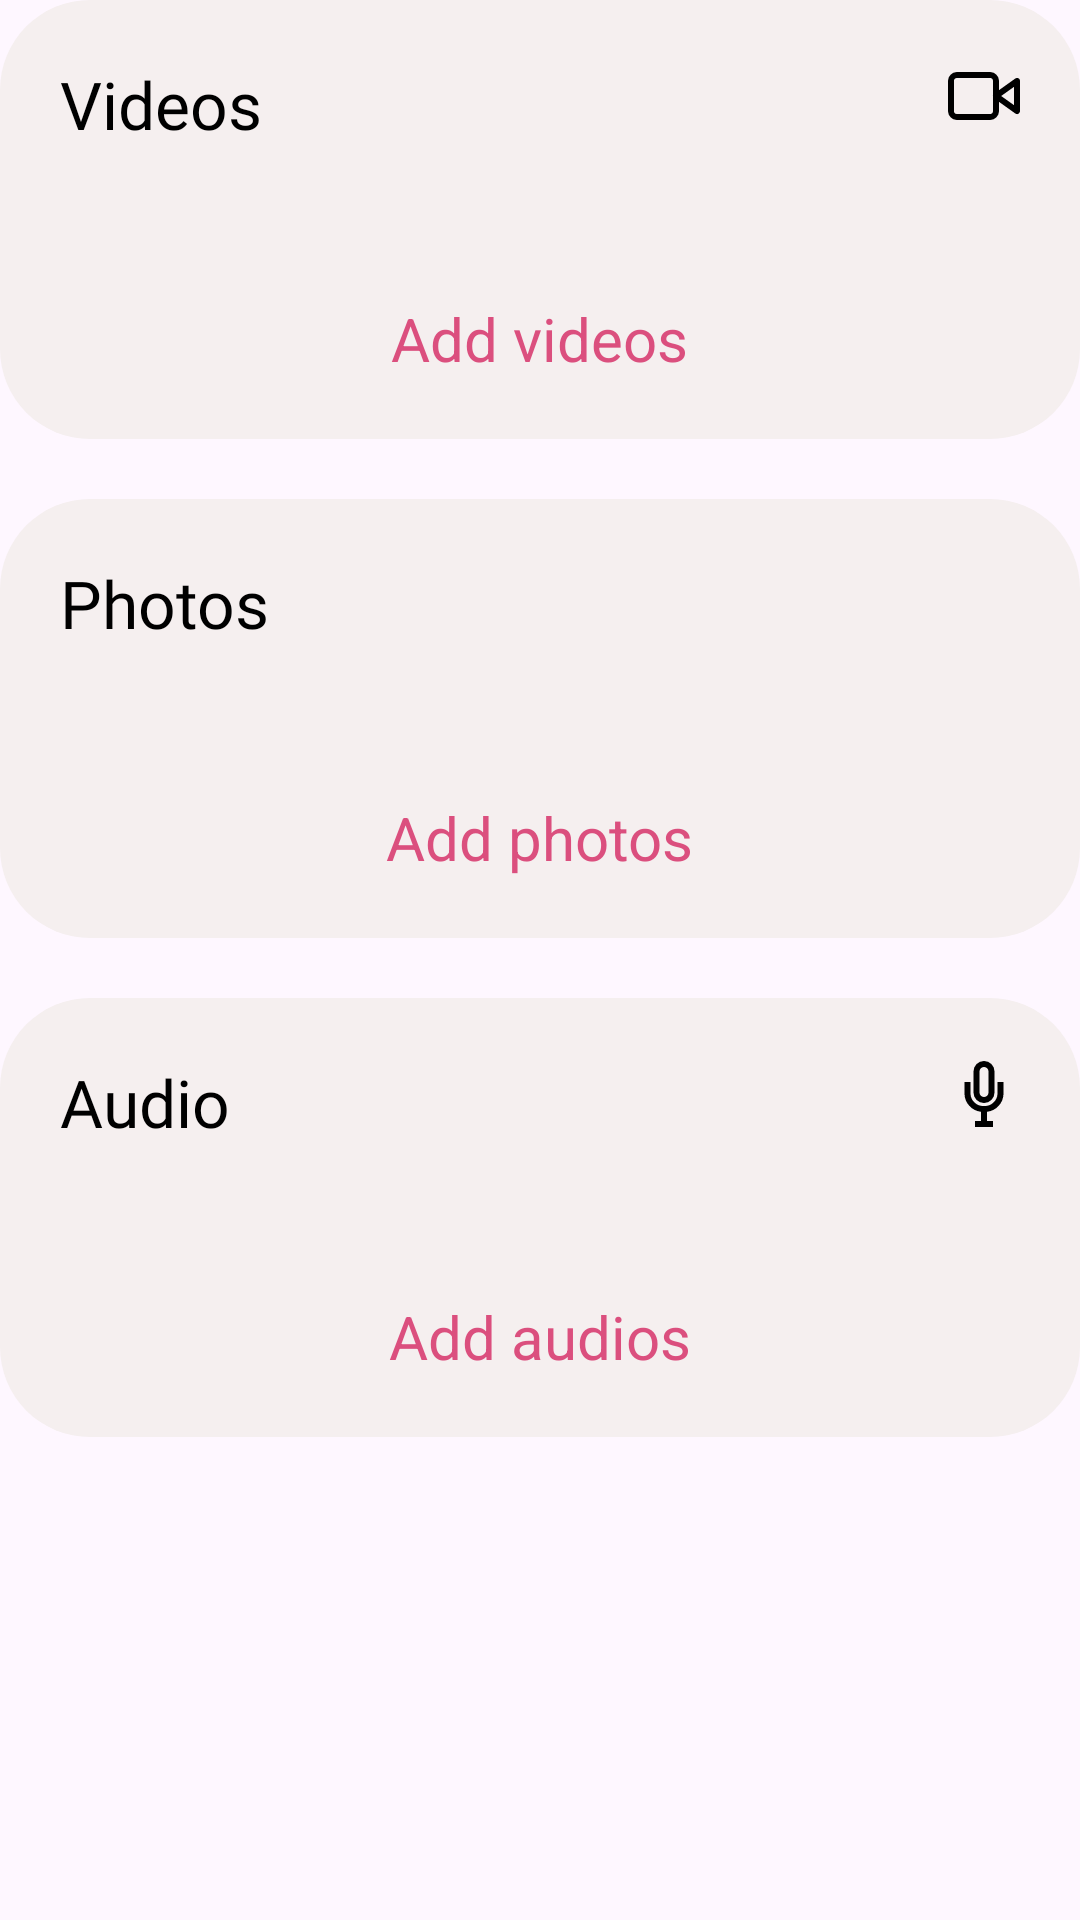

Icons on this 1080*1920 Android screen, each with the point to tap as [x,y]:
audio: [984,1094]
video: [984,96]
